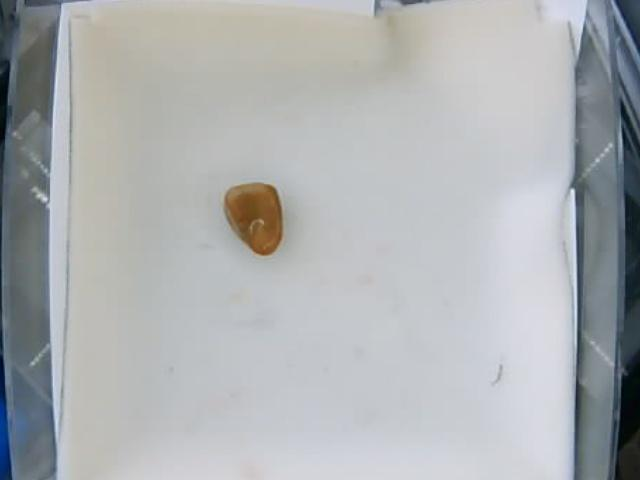Pebble: (223, 181, 286, 256)
